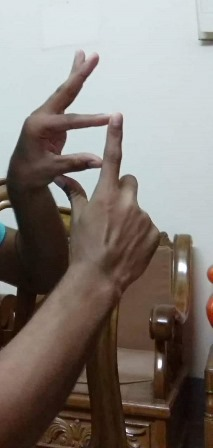k: (27, 52, 159, 272)
